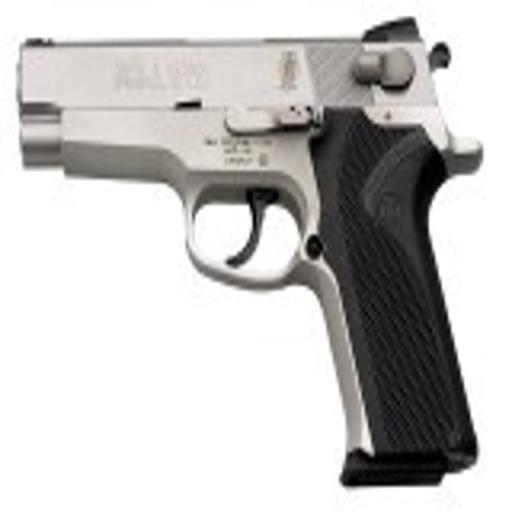Handgun: (11, 16, 488, 493)
